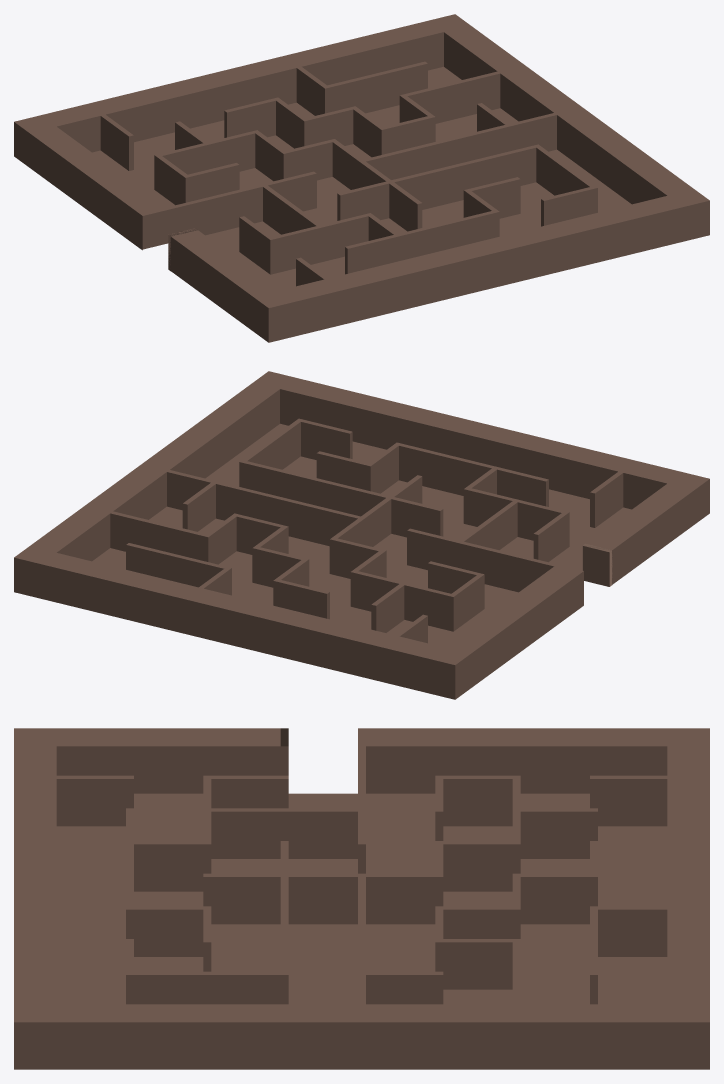
Rendered from level2.fbx.
3 renders of one model, top to bottom at view 1: azimuth 30°, elevation 25°; view 2: azimuth 150°, elevation 25°; view 3: azimuth 270°, elevation 25°, orthographic. The views are drawn at different scales.
Visible parts, largest first — view 1: Plane; view 2: Plane; view 3: Plane.
Boxes of the visible parts, x1,y1,x2,y2 form: Plane: [14, 14, 709, 342]; Plane: [14, 371, 709, 699]; Plane: [14, 728, 709, 1069].
Size of the model in its own units: 2000 by 151 by 2000.
